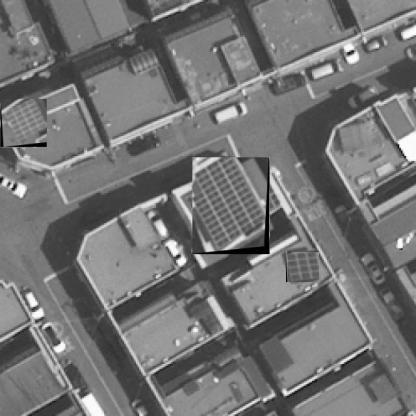solar-pv-panel: (192, 157, 267, 252), (1, 99, 47, 146), (286, 252, 319, 282)
